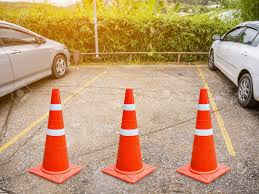car: (1, 21, 72, 98), (207, 19, 259, 108)
cone: (27, 86, 85, 185), (100, 86, 158, 185), (176, 87, 233, 185)
